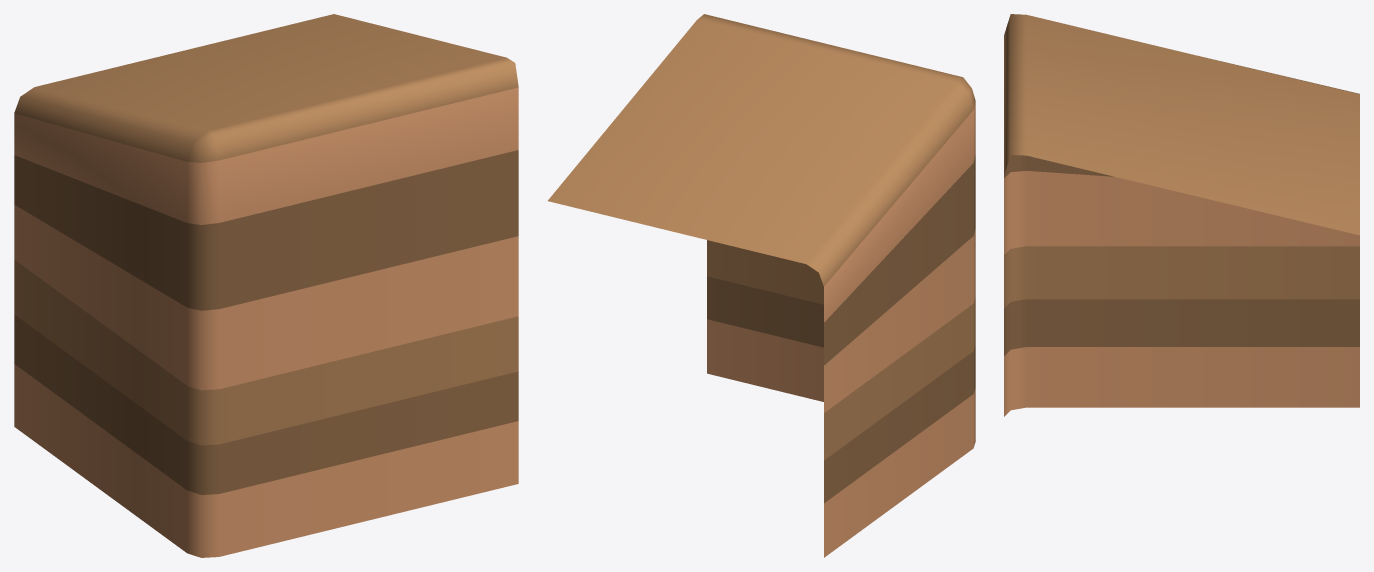
Rendered from Cube_Dirt_Corner_Tall_Slope01.glb.
3 renders of one model, left to right at view 1: azimuth 30°, elevation 25°; view 2: azimuth 150°, elevation 25°; view 3: azimuth 270°, elevation 25°, orthographic. The views are drawn at different scales.
Parts seen in each view (by area): view 1: Cube_Dirt_Corner_Tall; view 2: Cube_Dirt_Corner_Tall; view 3: Cube_Dirt_Corner_Tall.
Boxes of the visible parts, left/top/right/bottom form: Cube_Dirt_Corner_Tall: left=14, top=14, right=518, bottom=557; Cube_Dirt_Corner_Tall: left=548, top=14, right=975, bottom=557; Cube_Dirt_Corner_Tall: left=1004, top=14, right=1359, bottom=416.
Size of the model in its own units: 2 by 2.5 by 2.
